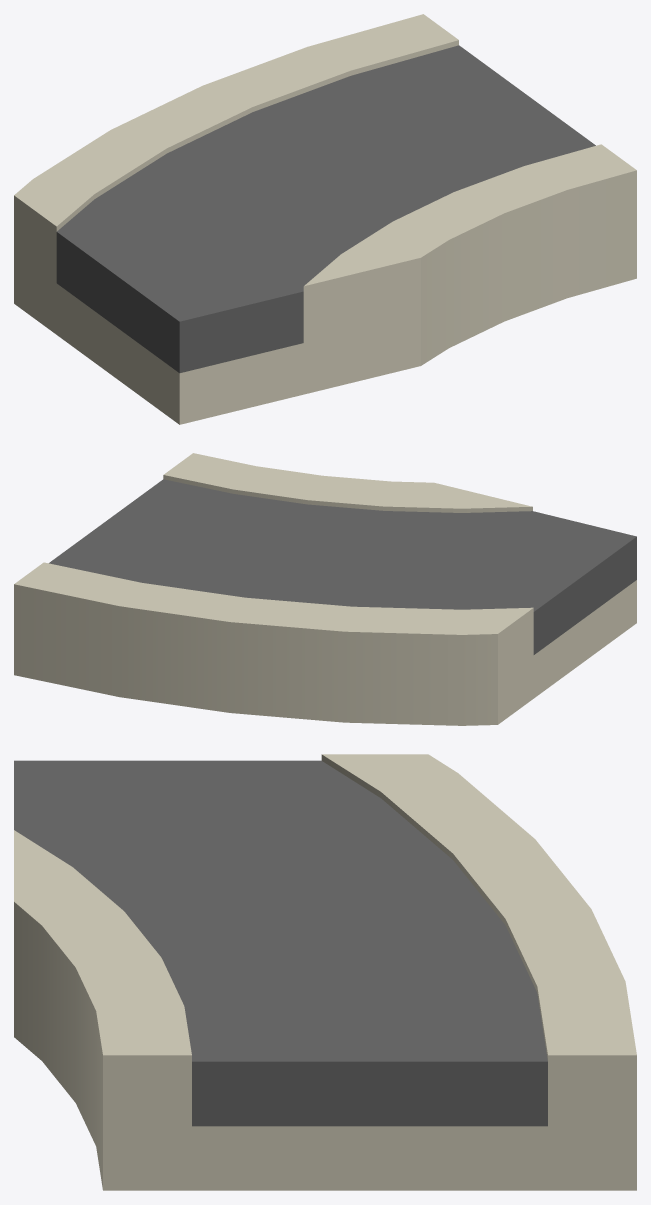
Rendered from tile197.dae.
The picture shows the model from 3 angles, top to bottom: view 1: azimuth 30°, elevation 25°; view 2: azimuth 150°, elevation 25°; view 3: azimuth 270°, elevation 25°; orthographic projection. The views are drawn at different scales.
Visible parts, largest first — view 1: tile197; view 2: tile197; view 3: tile197.
Part boxes in pixels (x1=…): tile197: x1=14, y1=14, x2=636, y2=424; tile197: x1=14, y1=453, x2=636, y2=725; tile197: x1=14, y1=754, x2=636, y2=1190.
Size of the model in its own units: 1 by 0.21 by 0.875.
